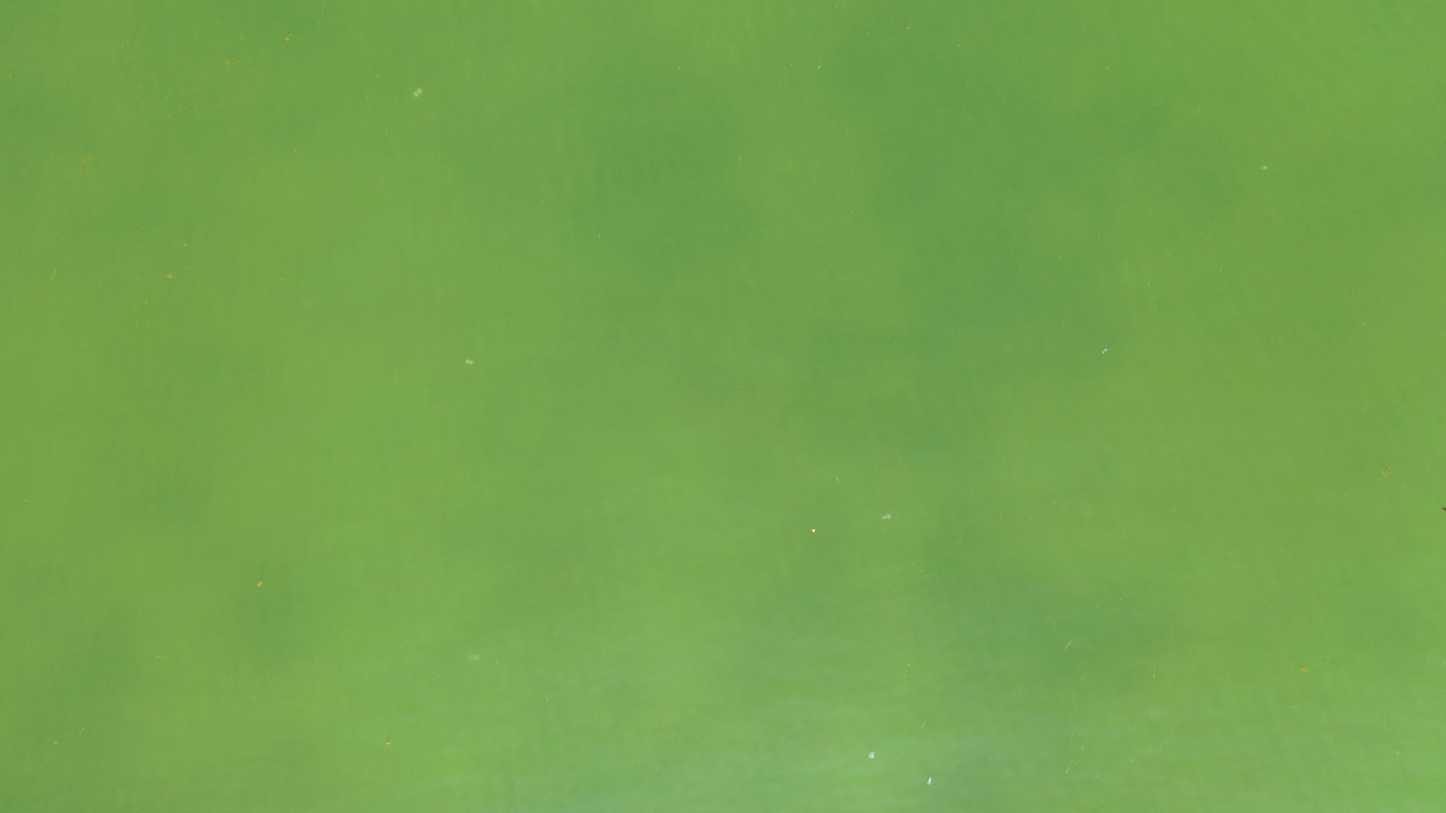meduse: (414, 87, 423, 97), (465, 357, 474, 366), (471, 654, 480, 662), (884, 514, 893, 521), (1101, 348, 1109, 355)
